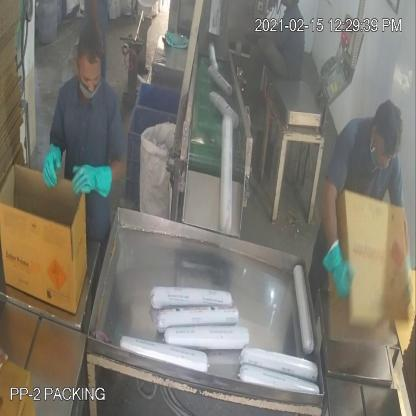glove: (68, 154, 117, 207), (316, 236, 356, 298), (38, 137, 66, 199)
